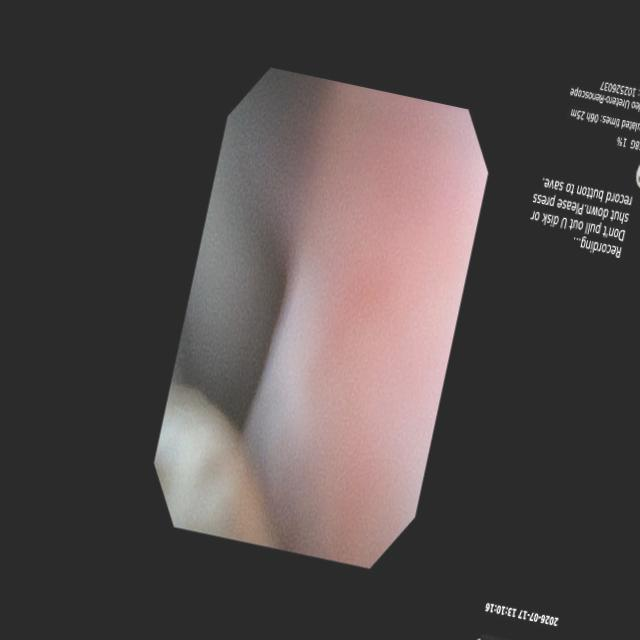stone-new: (154, 384, 277, 547)
